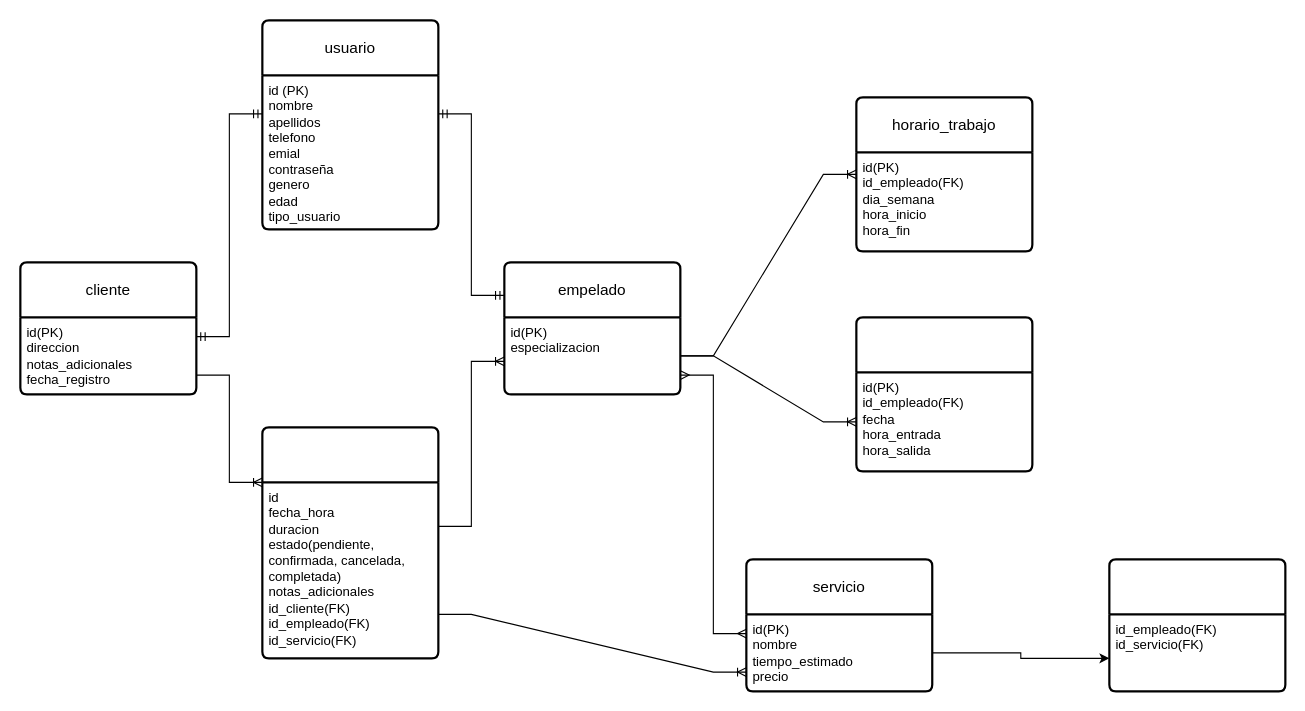
This 1305x711 diagram has some shape labels left out. The box of each missing label's shape, as (x1, y1, x2, y2) in pixels:
cita: (261, 426, 439, 659)
empleado_servicio: (1108, 558, 1286, 692)
registro_entrada_salida: (855, 316, 1033, 472)
